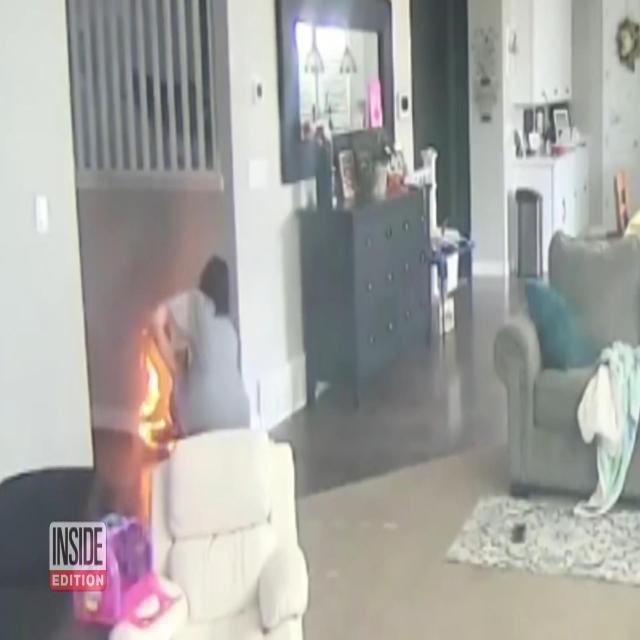fire: (139, 350, 166, 447)
